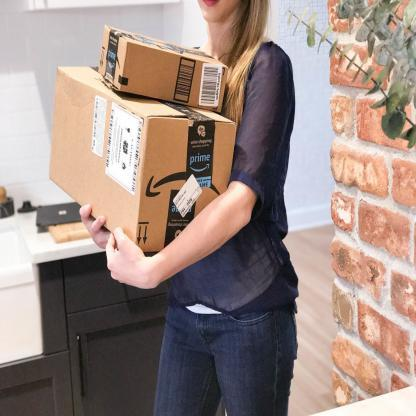package: (47, 66, 237, 254), (99, 23, 229, 114)
